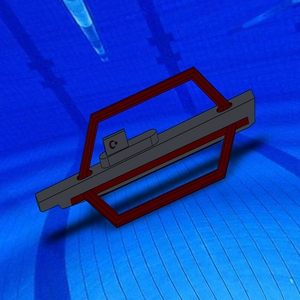submarine: (30, 62, 257, 229)
